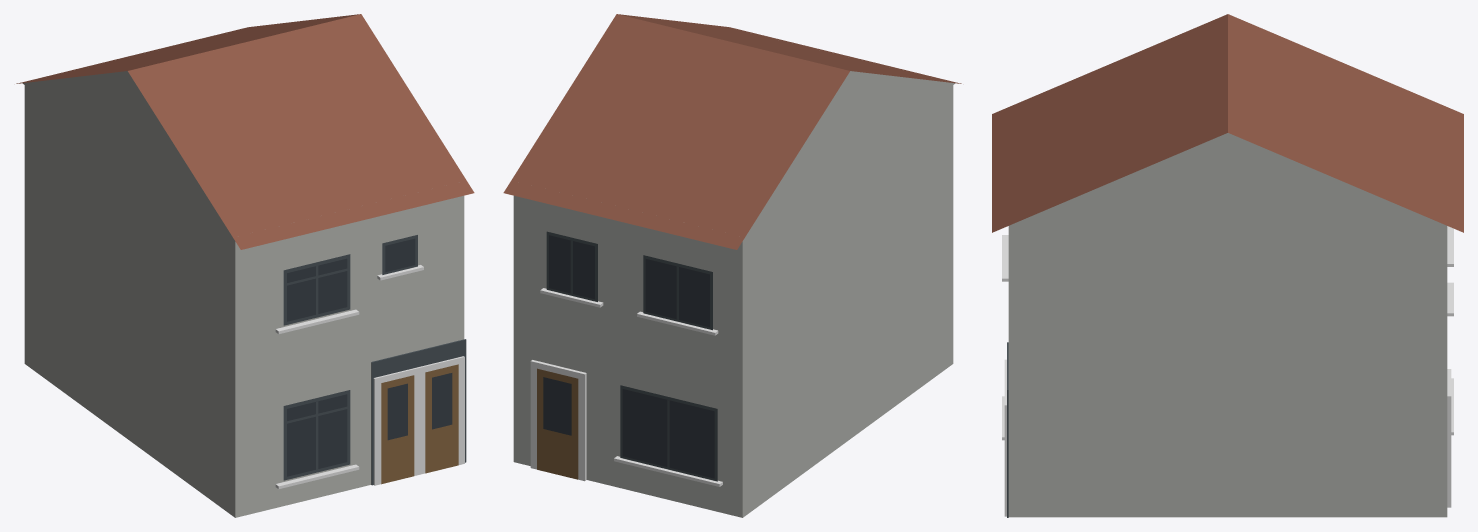
Rendered from nd-td-pomona__darkframe__2__gable__long__solid__f0d0.glb.
The picture shows the model from 3 angles, left to right: view 1: azimuth 30°, elevation 25°; view 2: azimuth 150°, elevation 25°; view 3: azimuth 270°, elevation 25°; orthographic projection. The views are drawn at different scales.
Parts seen in each view (by area): view 1: nd-td-pomona__darkframe__2__gable__long__solid__f0d0; view 2: nd-td-pomona__darkframe__2__gable__long__solid__f0d0; view 3: nd-td-pomona__darkframe__2__gable__long__solid__f0d0.
Part boxes in pixels (left/top/right/bottom): nd-td-pomona__darkframe__2__gable__long__solid__f0d0: left=16, top=14, right=474, bottom=517; nd-td-pomona__darkframe__2__gable__long__solid__f0d0: left=503, top=14, right=961, bottom=517; nd-td-pomona__darkframe__2__gable__long__solid__f0d0: left=992, top=14, right=1463, bottom=517.
Bounding box in the file's own units: 5.08 × 7.69 × 8.53.
